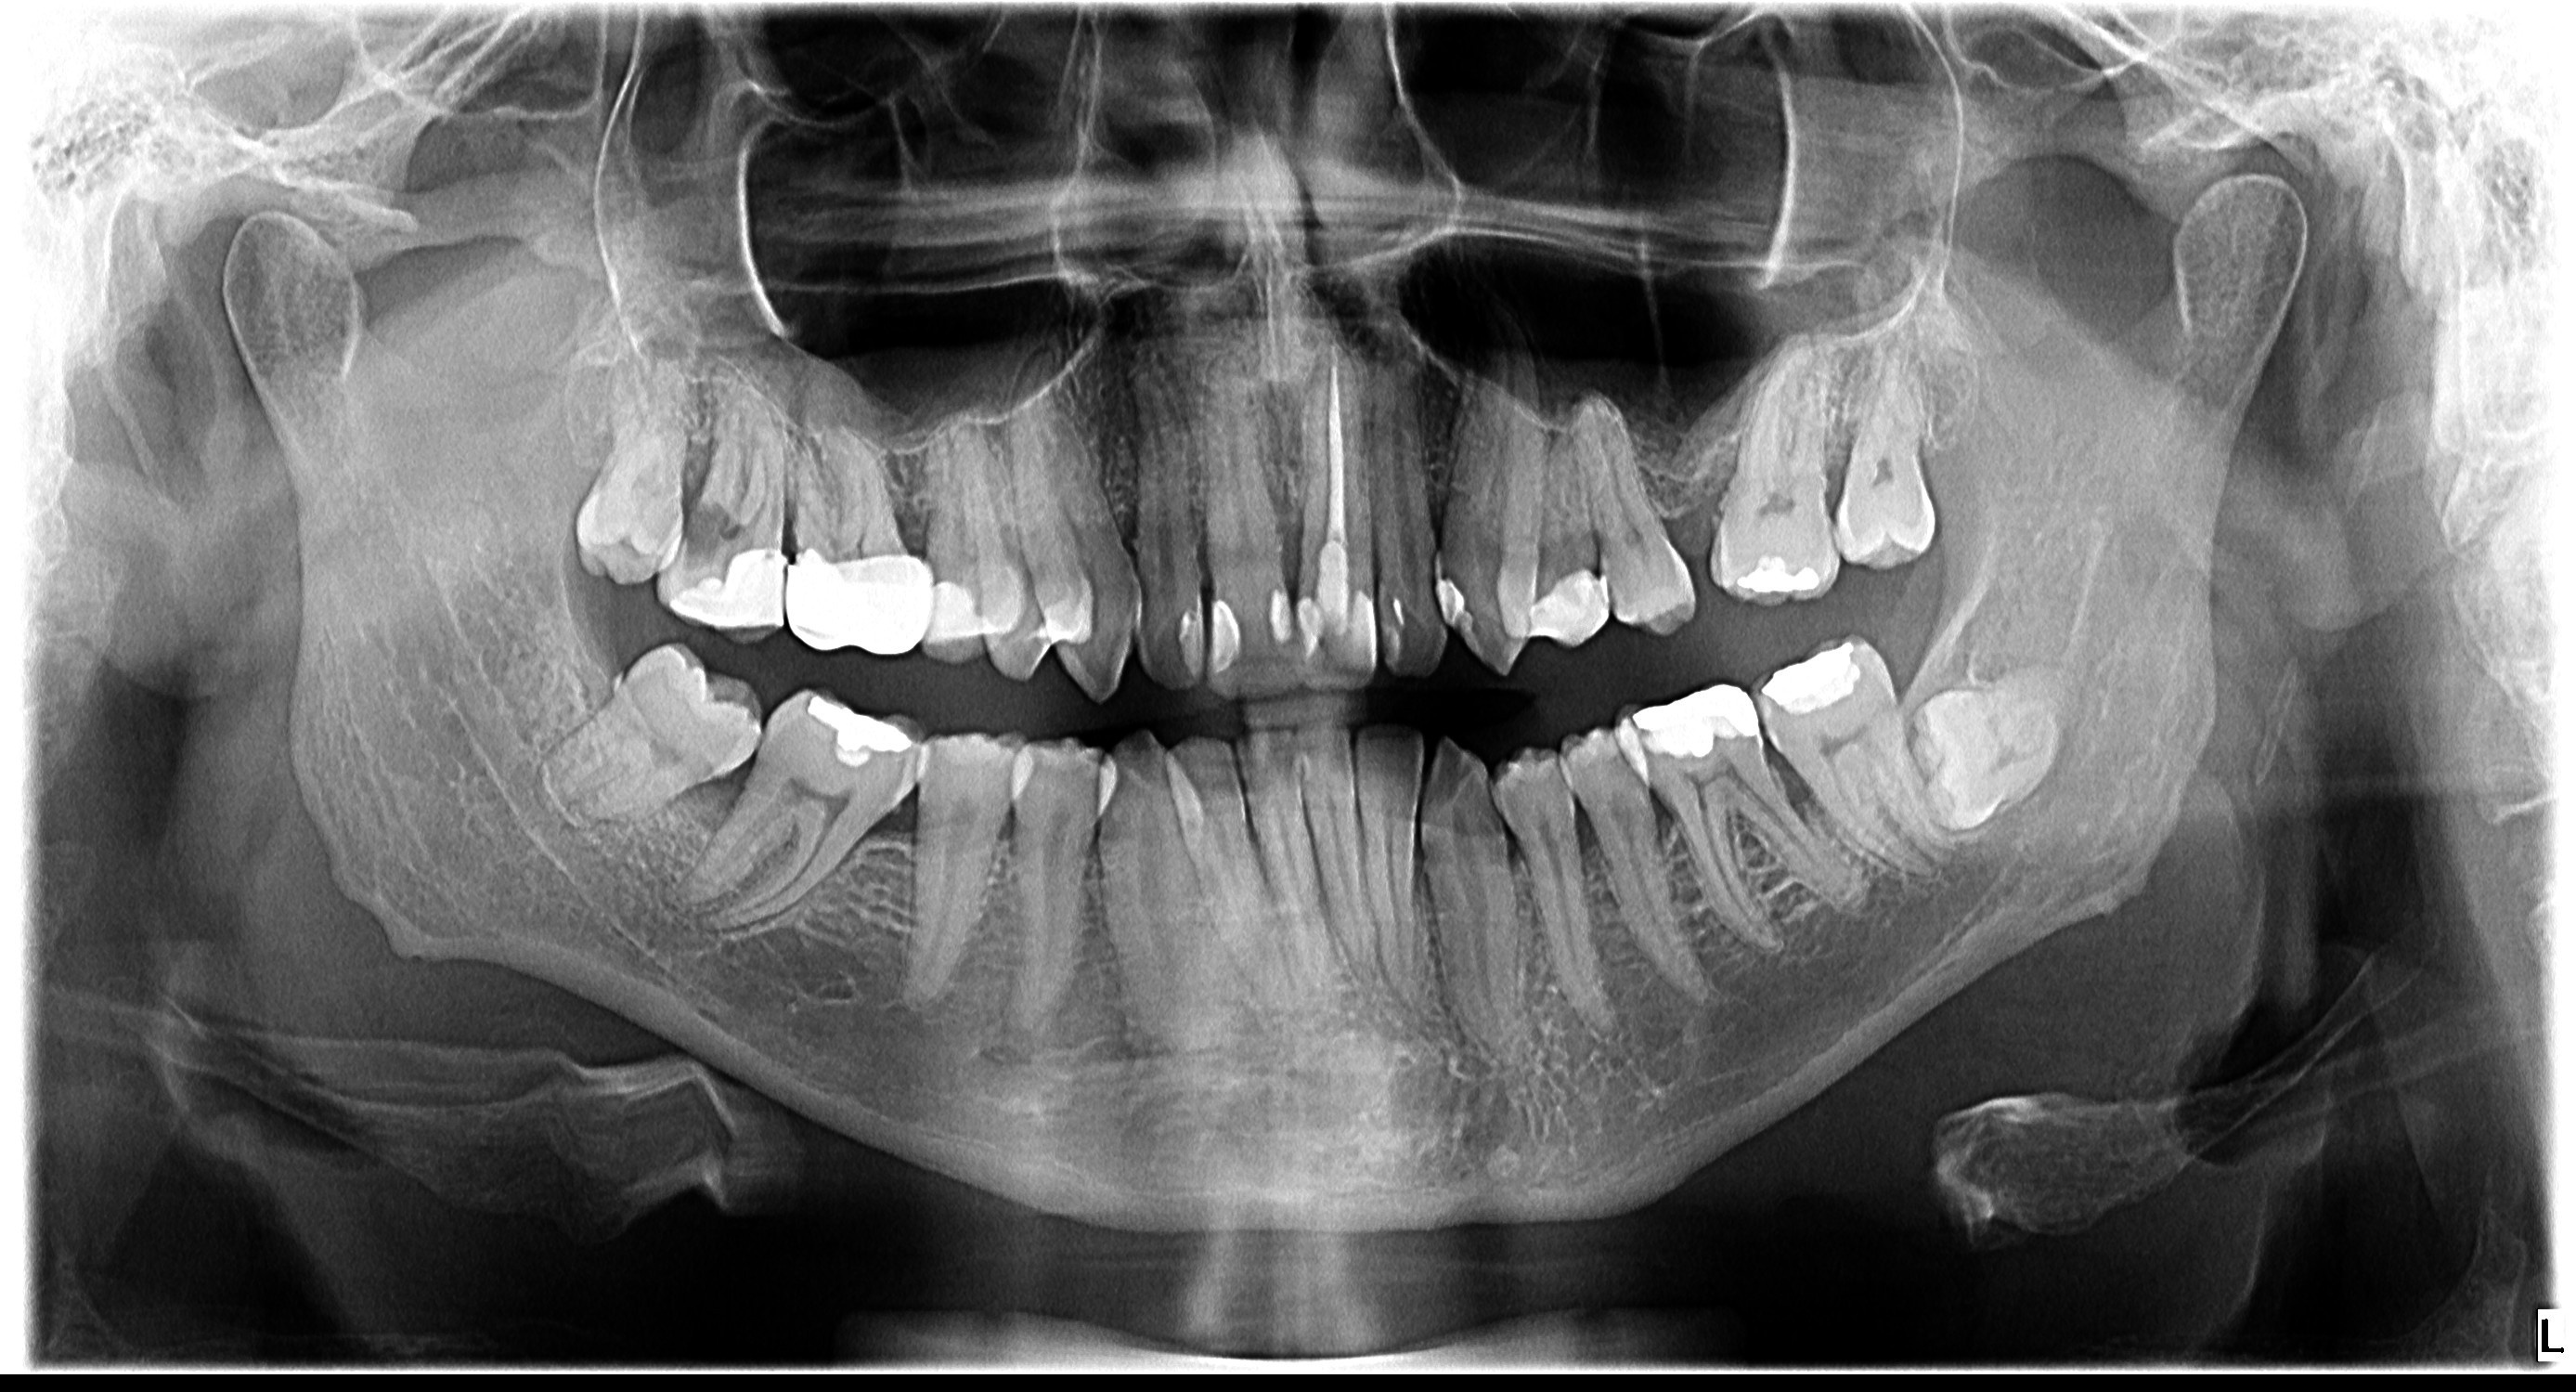BON: (1315, 329, 1363, 585), (1754, 758, 1841, 830), (1809, 417, 1872, 504), (1708, 422, 1752, 513)
CAR: (671, 485, 750, 581), (784, 526, 819, 564), (1757, 713, 1788, 744)
END: (659, 761, 759, 845)
IMT: (1901, 643, 2084, 864)
OBT: (649, 531, 793, 634), (1612, 679, 1768, 771), (1749, 627, 1879, 723), (791, 679, 913, 780), (1512, 555, 1622, 646), (918, 569, 1004, 662), (1735, 538, 1838, 614), (1336, 571, 1384, 696), (1189, 586, 1247, 677), (1302, 533, 1353, 634), (1163, 602, 1211, 686), (1249, 571, 1297, 646), (1427, 571, 1478, 641), (1298, 590, 1326, 677)
PRR: (769, 540, 939, 667)
